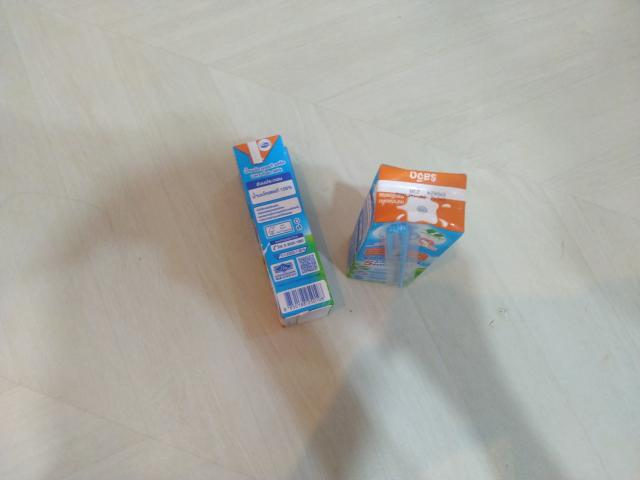drink_box: (217, 124, 362, 337), (327, 143, 489, 312)
